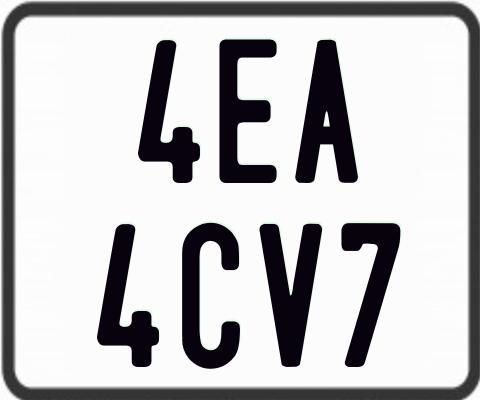4: (137, 38, 203, 187), (96, 224, 159, 371)
7: (339, 222, 401, 367)
A: (292, 40, 358, 183)
C: (179, 221, 238, 371)
E: (217, 38, 280, 185)
V: (260, 223, 324, 370)
